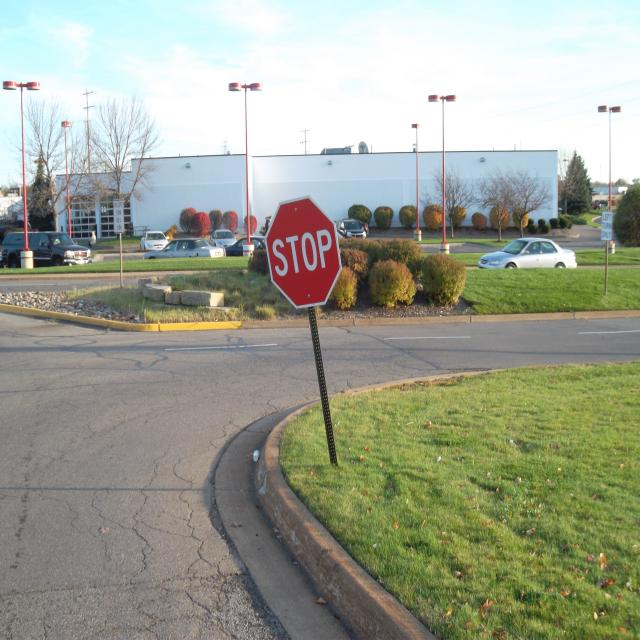regulatory: (599, 204, 617, 249)
stop: (266, 198, 341, 305)
